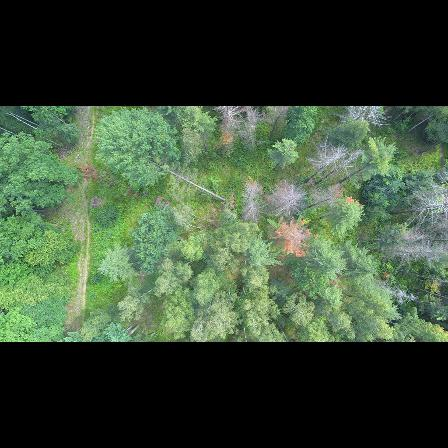Dead: (385, 191, 448, 222), (296, 147, 346, 182), (319, 150, 366, 183), (336, 106, 392, 130), (378, 242, 447, 260), (212, 106, 241, 145), (267, 185, 301, 217), (240, 106, 265, 149), (378, 283, 420, 305), (237, 186, 260, 223)
